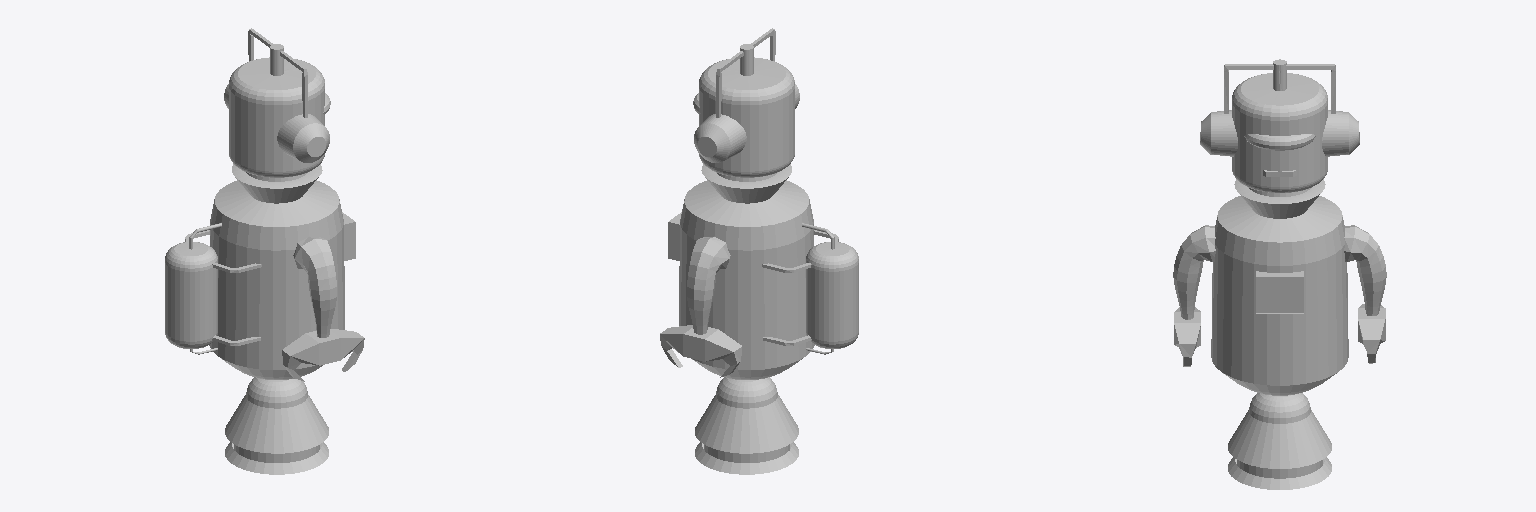
File: Roboter.obj
The picture shows the model from 3 angles: view 1: azimuth 30°, elevation 25°; view 2: azimuth 150°, elevation 25°; view 3: azimuth 270°, elevation 25°; orthographic projection.
Parts seen in each view (by area): view 1: Body_Cylinder, Cylinder_Cylinder.001, Arm_L_Cube.002, Hand_L_Cube.003; view 2: Body_Cylinder, Cylinder_Cylinder.001, Arm_R_Cube, Hand_R_Cube.001; view 3: Body_Cylinder, Arm_L_Cube.002, Arm_R_Cube, Hand_R_Cube.001, Hand_L_Cube.003.
Part boxes in pixels (x1,y1,x2,y2): Body_Cylinder: (209, 28, 355, 474); Cylinder_Cylinder.001: (165, 223, 261, 354); Arm_L_Cube.002: (293, 237, 336, 337); Hand_L_Cube.003: (282, 329, 364, 381); Body_Cylinder: (668, 28, 814, 474); Cylinder_Cylinder.001: (762, 223, 858, 354); Arm_R_Cube: (687, 237, 730, 334); Hand_R_Cube.001: (660, 325, 741, 377); Body_Cylinder: (1200, 59, 1359, 489); Arm_L_Cube.002: (1173, 225, 1215, 319); Arm_R_Cube: (1344, 225, 1386, 315); Hand_R_Cube.001: (1358, 304, 1385, 363); Hand_L_Cube.003: (1174, 307, 1200, 366).
Size of the model in its own units: 1.57 by 3.48 by 1.65.